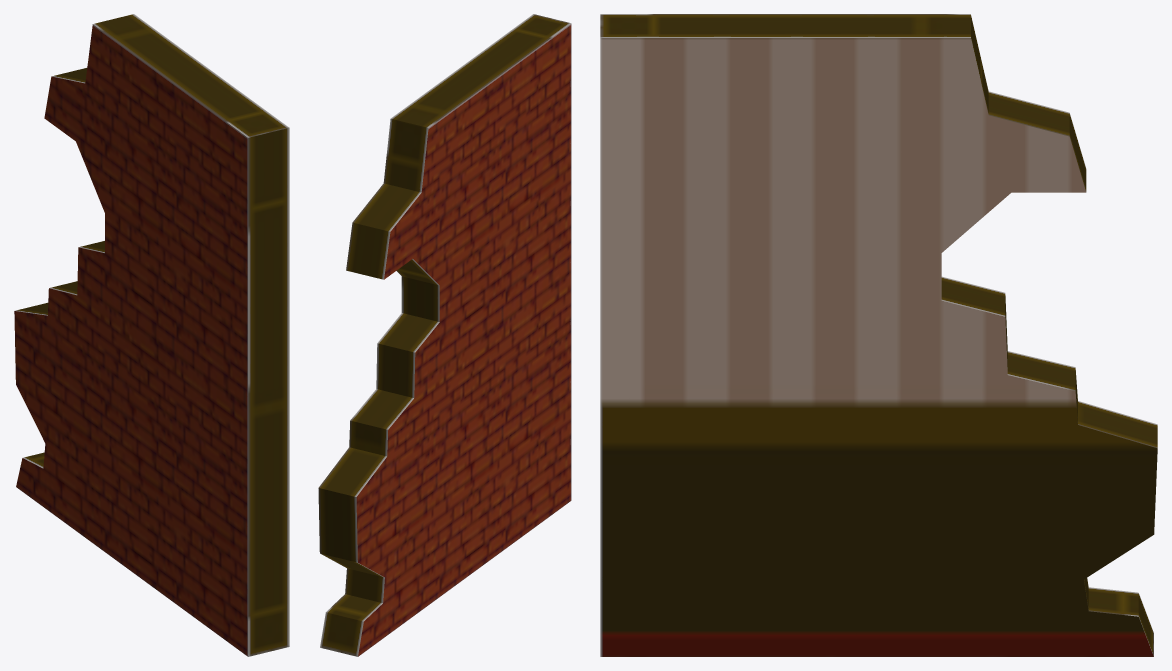
File: Wall_Broken_R_03.fbx
The picture shows the model from 3 angles, left to right: view 1: azimuth 30°, elevation 25°; view 2: azimuth 150°, elevation 25°; view 3: azimuth 270°, elevation 25°; orthographic projection. The views are drawn at different scales.
Parts seen in each view (by area): view 1: Wall_Broken_R_03; view 2: Wall_Broken_R_03; view 3: Wall_Broken_R_03.
Part boxes in pixels (<box>): Wall_Broken_R_03: <box>14,14,289,656</box>; Wall_Broken_R_03: <box>318,14,571,656</box>; Wall_Broken_R_03: <box>600,14,1157,656</box>.
Bounding box in the file's own units: 50 × 600 × 490.
